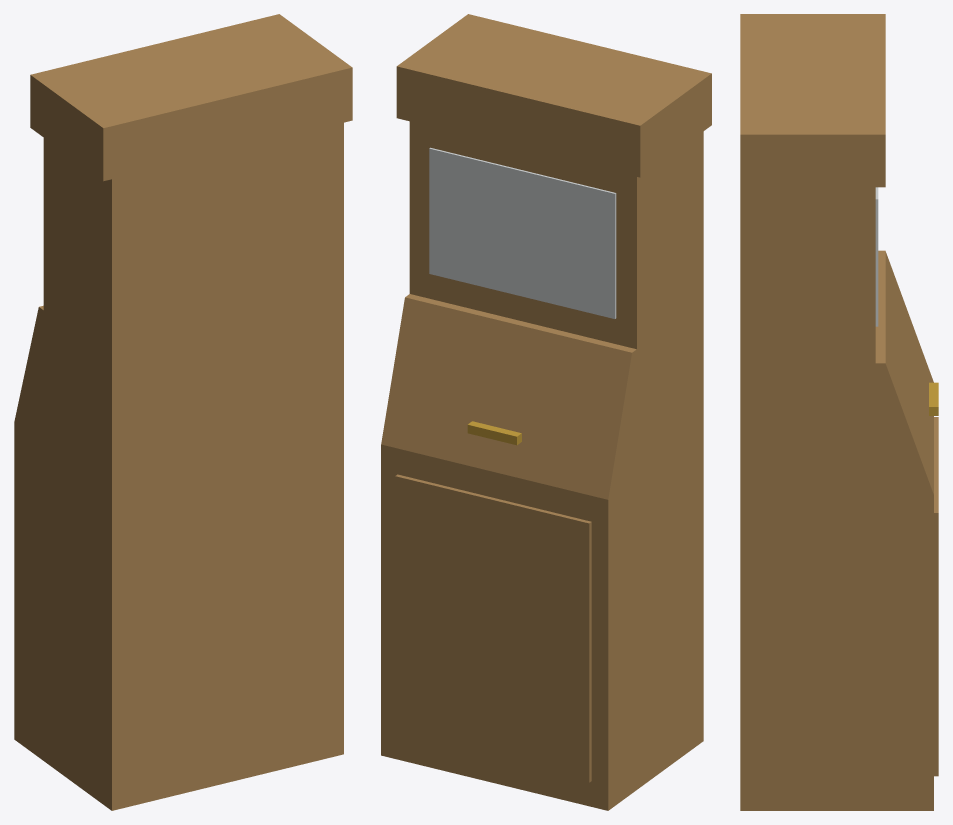
The model's file is parametric-folding_lavatory-2nd-pub.glb.
3 renders of one model, left to right at view 1: azimuth 30°, elevation 25°; view 2: azimuth 150°, elevation 25°; view 3: azimuth 270°, elevation 25°, orthographic. The views are drawn at different scales.
Parts seen in each view (by area): view 1: parametric-folding_lavatory-2nd-pub; view 2: parametric-folding_lavatory-2nd-pub; view 3: parametric-folding_lavatory-2nd-pub.
Boxes of the visible parts, x1=… form: parametric-folding_lavatory-2nd-pub: x1=14, y1=14, x2=352, y2=810; parametric-folding_lavatory-2nd-pub: x1=381, y1=14, x2=711, y2=810; parametric-folding_lavatory-2nd-pub: x1=740, y1=14, x2=938, y2=810.
Size of the model in its own units: 0.59 by 1.55 by 0.41.
